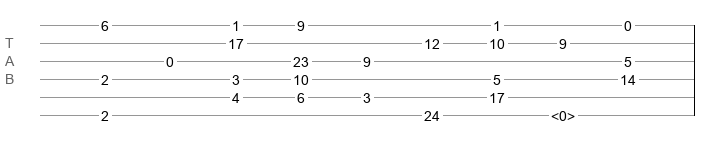0: (166, 54, 174, 64), (624, 18, 632, 28)
1: (232, 18, 240, 28), (493, 18, 501, 28)
10: (293, 72, 309, 82), (489, 36, 505, 46)
12: (424, 36, 440, 46)
14: (620, 72, 636, 82)
17: (228, 36, 244, 46), (489, 90, 505, 100)
2: (101, 72, 109, 82), (101, 108, 109, 118)
23: (293, 54, 309, 64)
24: (424, 108, 440, 118)
3: (232, 72, 240, 82), (363, 90, 371, 100)
4: (232, 90, 240, 100)
5: (493, 72, 501, 82), (624, 54, 632, 64)
6: (101, 18, 109, 28), (297, 90, 305, 100)
9: (297, 18, 305, 28), (363, 54, 371, 64), (559, 36, 567, 46)
harmonic: (551, 108, 575, 118)
